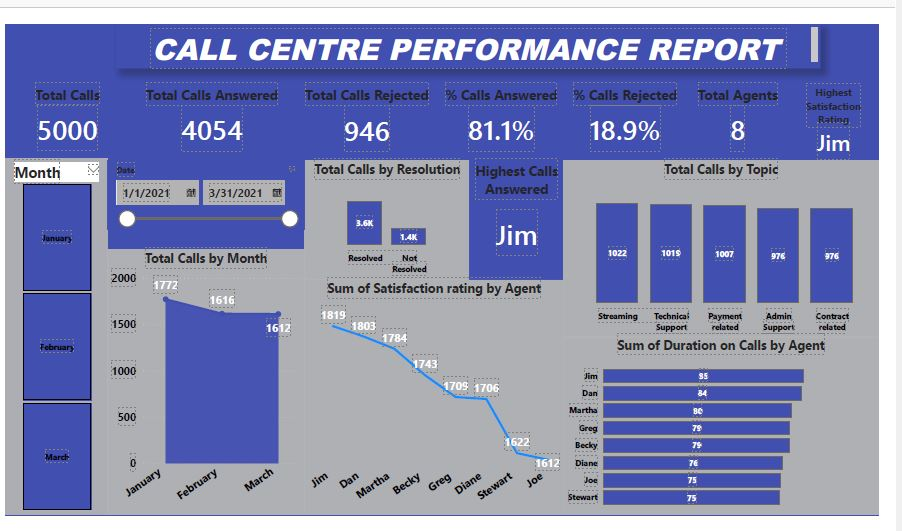

Layout of this report page (visuals, bound fields, positions):
{"tool":"powerbi","page":{"name":"Page 1","canvas":[1280,720],"ordinal":0},"visuals":[{"type":"card","title":"Total Calls Answered","fields":{"Values":["Performance.Total Calls Answered"]},"box":[181.7,89.3,242.3,109],"z":0},{"type":"card","title":"Total Calls","fields":{"Values":["Performance.Total Calls"]},"box":[0,89.3,181.7,107.5],"z":1000},{"type":"card","title":"Total Calls Rejected","fields":{"Values":["Performance.Total Calls Rejected"]},"box":[424,89.3,212,110.5],"z":2000},{"type":"card","title":"% Calls Answered","fields":{"Values":["Performance.% Calls Answered"]},"box":[636,89.3,181.7,109],"z":3000},{"type":"card","title":"% Calls Rejected","fields":{"Values":["Performance.% Calls Rejected"]},"box":[817.7,89.3,181.7,109],"z":4000},{"type":"card","title":"Total Agents","fields":{"Values":["Performance.Agent"]},"box":[999.4,89.3,148.4,109],"z":5000},{"type":"clusteredColumnChart","fields":{"Y":["Performance.Total Calls"],"Category":["Performance.Resolution"]},"box":[439.1,199.9,242.3,174.1],"z":6000},{"type":"textbox","box":[162,0,1032.7,65.1],"z":7000},{"type":"lineChart","fields":{"Category":["Performance.Agent"],"Y":["Performance.Satisfaction rating"]},"box":[439.1,374,227.1,345.2],"z":8000},{"type":"card","title":"Highest Calls Answered","fields":{"Values":["Performance.Agent"]},"box":[681.4,199.9,136.3,174.1],"z":9000},{"type":"card","title":"Highest Satisfaction Rating","fields":{"Values":["Performance.Agent"]},"box":[1147.8,89.3,131.7,107.5],"z":10000},{"type":"clusteredColumnChart","fields":{"Category":["Performance.Topic"],"Y":["Performance.Total Calls"]},"box":[863.1,199.9,416.4,258.9],"z":11000},{"type":"clusteredBarChart","fields":{"Category":["Performance.Agent"],"Y":["Performance.Duration on Calls"]},"box":[863.1,457.3,416.4,262],"z":12000},{"type":"areaChart","fields":{"Y":["Performance.Total Calls"],"Category":["Performance.Date.Variation.Date Hierarchy.Month"]},"box":[149.9,330.1,287.7,389.2],"z":13000},{"type":"slicer","fields":{"Values":["Performance.Date.Variation.Date Hierarchy.Month"]},"box":[0,196.8,149.9,520.9],"z":14000},{"type":"slicer","fields":{"Values":["Performance.Date"]},"box":[149.9,199.9,287.7,99.9],"z":15000},{"type":"lineChart","fields":{"Category":["Performance.Agent"],"Y":["Performance.Satisfaction rating"]},"box":[666.3,374,196.8,345.2],"z":15001}]}

Visuals, with their boxes on the page's 1280x720 design canvas (x1, y1, x2, y2). These are canvas units, not pixel positions in the 902x531 screenshot, which may show the page scaled, cropped or inside an application window:
"Total Calls Answered" card: [left=182, top=89, right=424, bottom=198]
"Total Calls" card: [left=0, top=89, right=182, bottom=197]
"Total Calls Rejected" card: [left=424, top=89, right=636, bottom=200]
"% Calls Answered" card: [left=636, top=89, right=818, bottom=198]
"% Calls Rejected" card: [left=818, top=89, right=999, bottom=198]
"Total Agents" card: [left=999, top=89, right=1148, bottom=198]
clusteredColumnChart - Performance.Total Calls x Performance.Resolution: [left=439, top=200, right=681, bottom=374]
textbox: [left=162, top=0, right=1195, bottom=65]
lineChart - Performance.Agent x Performance.Satisfaction rating: [left=439, top=374, right=666, bottom=719]
"Highest Calls Answered" card: [left=681, top=200, right=818, bottom=374]
"Highest Satisfaction Rating" card: [left=1148, top=89, right=1280, bottom=197]
clusteredColumnChart - Performance.Topic x Performance.Total Calls: [left=863, top=200, right=1280, bottom=459]
clusteredBarChart - Performance.Agent x Performance.Duration on Calls: [left=863, top=457, right=1280, bottom=719]
areaChart - Performance.Total Calls x Performance.Date.Variation.Date Hierarchy.Month: [left=150, top=330, right=438, bottom=719]
slicer - Performance.Date.Variation.Date Hierarchy.Month: [left=0, top=197, right=150, bottom=718]
slicer - Performance.Date: [left=150, top=200, right=438, bottom=300]
lineChart - Performance.Agent x Performance.Satisfaction rating: [left=666, top=374, right=863, bottom=719]
